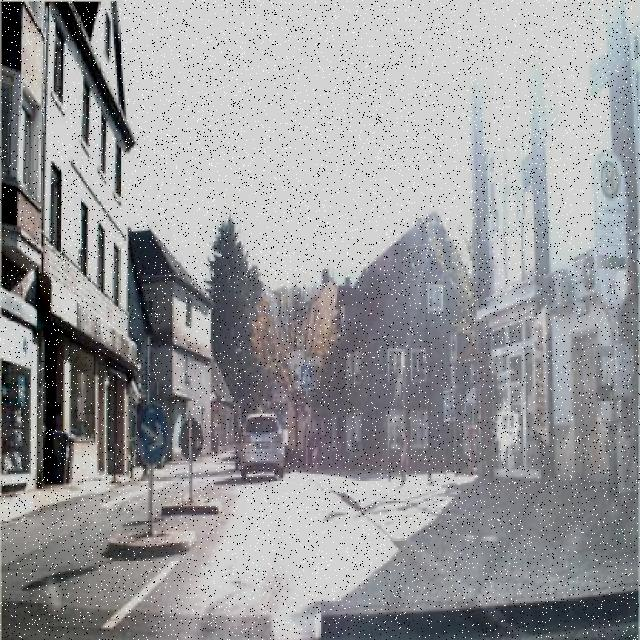Przejscie dla pieszych: (298, 364, 316, 392)
